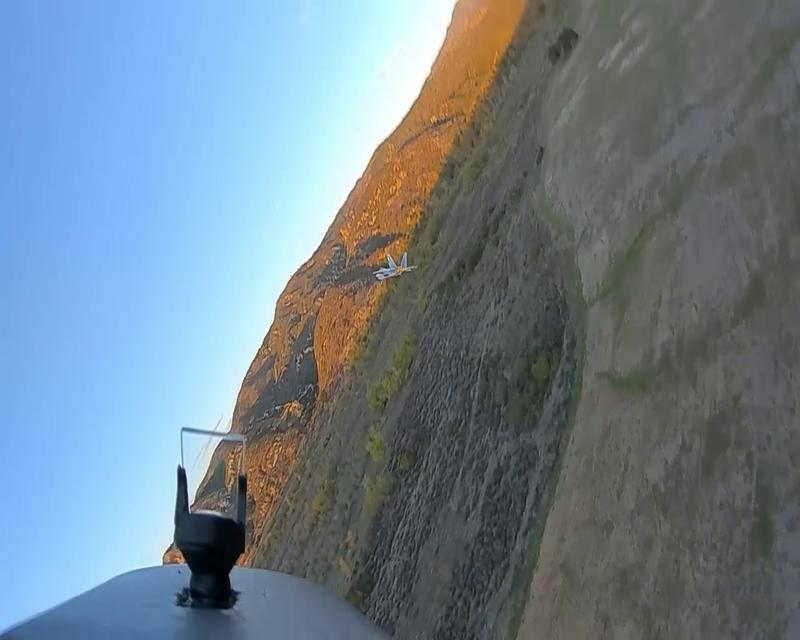UAV: (373, 252, 420, 280)
